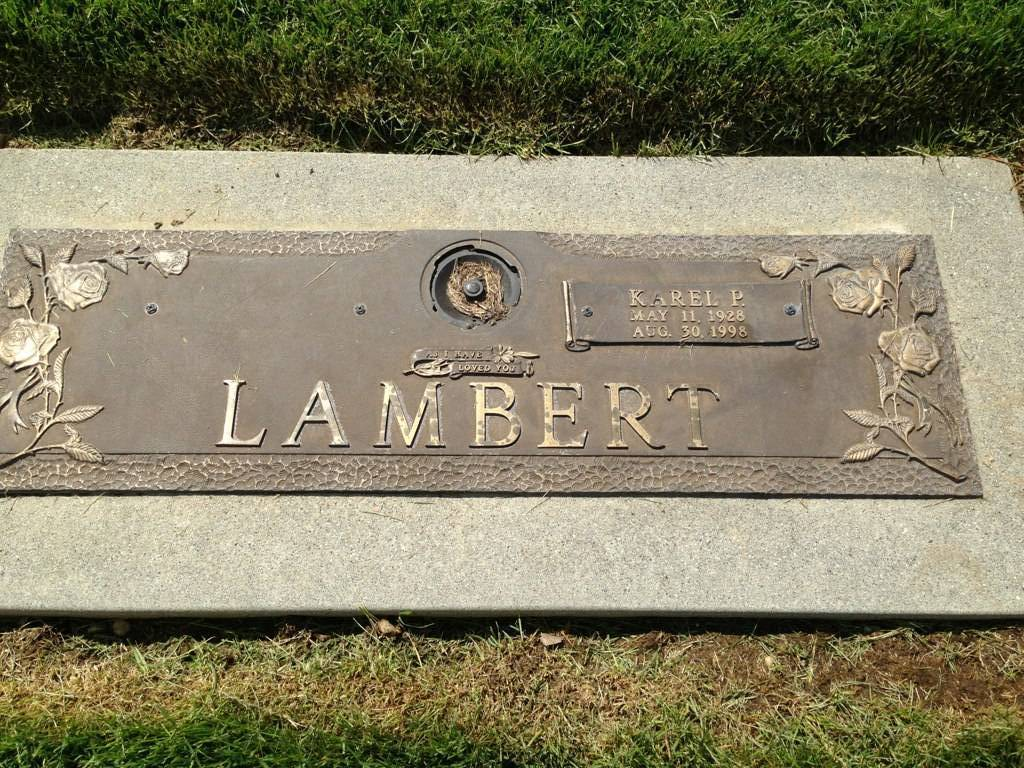flat: (2, 104, 1024, 640)
